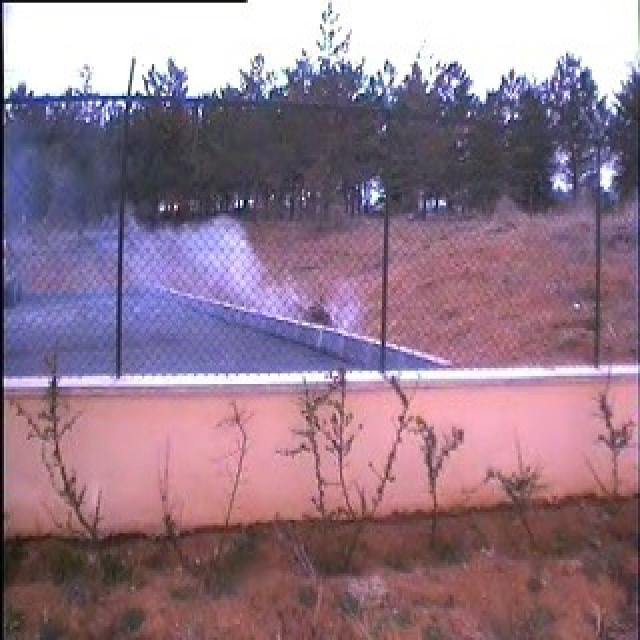Smoke: (125, 216, 298, 316)
